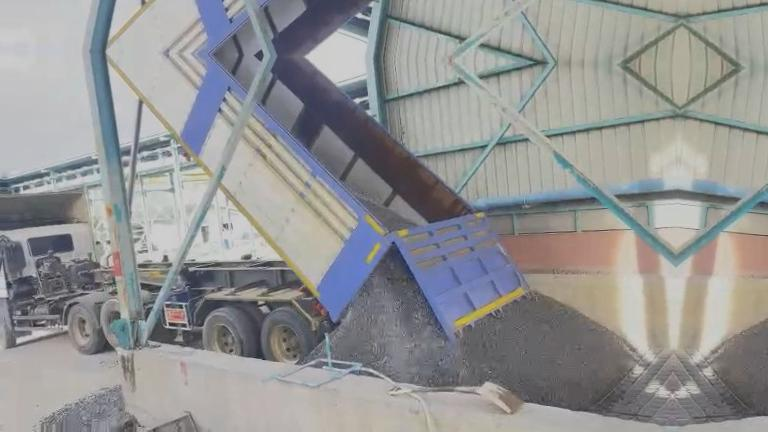gravel: (331, 248, 638, 410), (35, 385, 127, 429), (351, 189, 417, 232)
